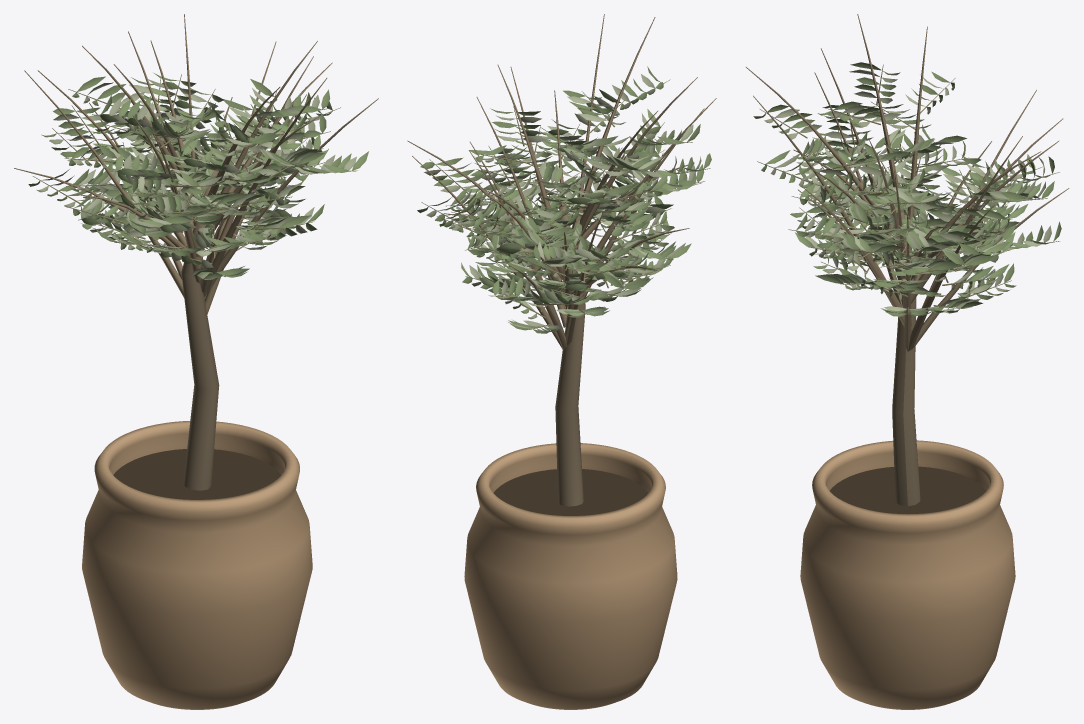
The model's file is olive-pot-light.glb.
3 views of the same model, side by side, from view 1: azimuth 30°, elevation 25°; view 2: azimuth 150°, elevation 25°; view 3: azimuth 270°, elevation 25° (orthographic). The views are drawn at different scales.
Parts seen in each view (by area): view 1: Rounded clay pot with hollow rolled lip, Potted olive silver leaves, Potted olive branching trunk, Soil inside olive pot; view 2: Rounded clay pot with hollow rolled lip, Potted olive silver leaves, Potted olive branching trunk, Soil inside olive pot; view 3: Rounded clay pot with hollow rolled lip, Potted olive silver leaves, Potted olive branching trunk, Soil inside olive pot.
Boxes of the visible parts, left/top/right/bottom form: Rounded clay pot with hollow rolled lip: left=82, top=421, right=312, bottom=709; Potted olive silver leaves: left=28, top=73, right=368, bottom=279; Potted olive branching trunk: left=14, top=14, right=378, bottom=490; Soil inside olive pot: left=113, top=449, right=281, bottom=499; Rounded clay pot with hollow rolled lip: left=464, top=443, right=677, bottom=709; Potted olive silver leaves: left=417, top=66, right=711, bottom=333; Potted olive branching trunk: left=407, top=14, right=716, bottom=506; Soil inside olive pot: left=493, top=469, right=648, bottom=515; Rounded clay pot with hollow rolled lip: left=800, top=440, right=1015, bottom=709; Potted olive silver leaves: left=753, top=62, right=1061, bottom=316; Potted olive branching trunk: left=746, top=14, right=1069, bottom=506; Soil inside olive pot: left=830, top=466, right=985, bottom=514.
Bounding box in the file's own units: 0.6781 × 1.46 × 0.6926.
